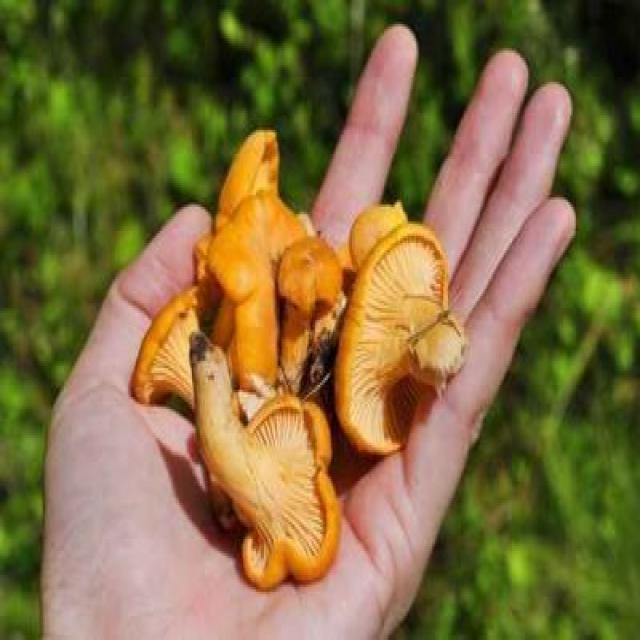chanterelle: (189, 332, 341, 592), (333, 224, 467, 457)
